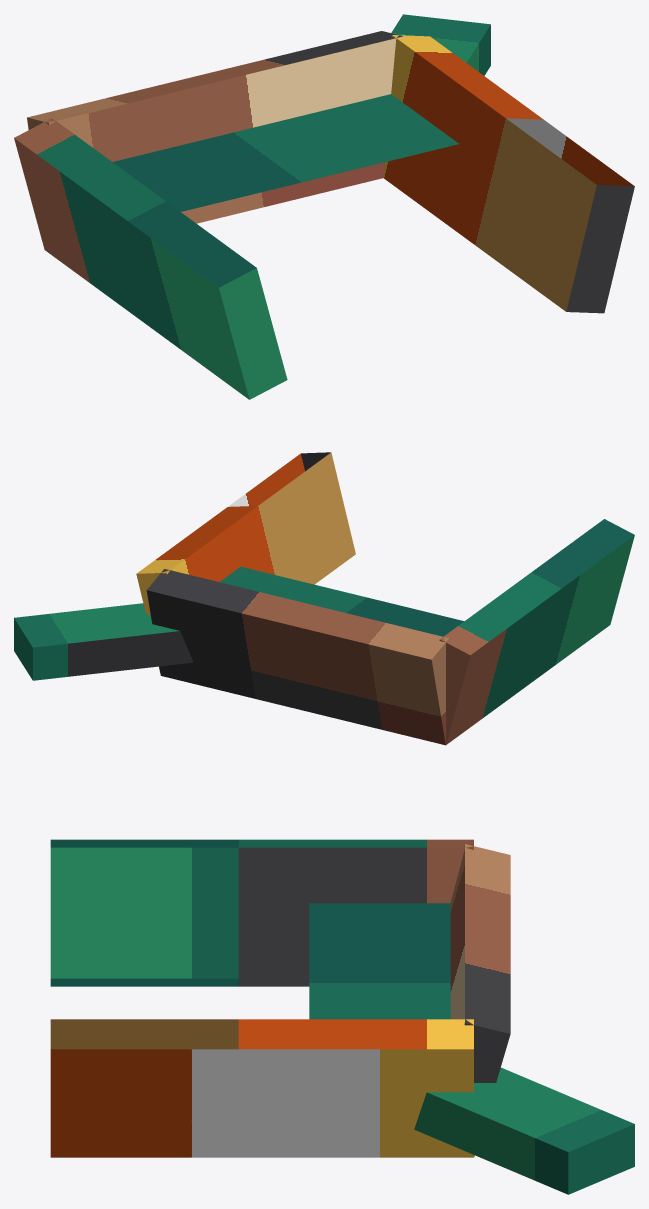
File: breakfast_skillet.obj
The picture shows the model from 3 angles, top to bottom: view 1: azimuth 30°, elevation 25°; view 2: azimuth 150°, elevation 25°; view 3: azimuth 270°, elevation 25°; orthographic projection. The views are drawn at different scales.
Visible parts, largest first — view 1: cube, surface; view 2: cube, surface; view 3: cube, surface.
Boxes of the visible parts, left/top/right/bottom form: cube: left=14, top=14, right=634, bottom=399; surface: left=112, top=94, right=458, bottom=211; cube: left=14, top=452, right=634, bottom=745; surface: left=219, top=566, right=464, bottom=636; cube: left=50, top=839, right=634, bottom=1194; surface: left=309, top=903, right=450, bottom=1019.
Size of the model in its own units: 0.8285 by 0.3483 by 0.8247.
